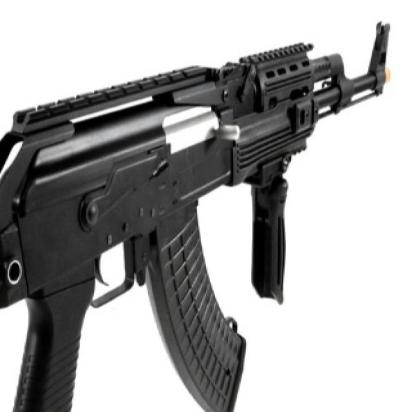Gun: (5, 17, 399, 410)
